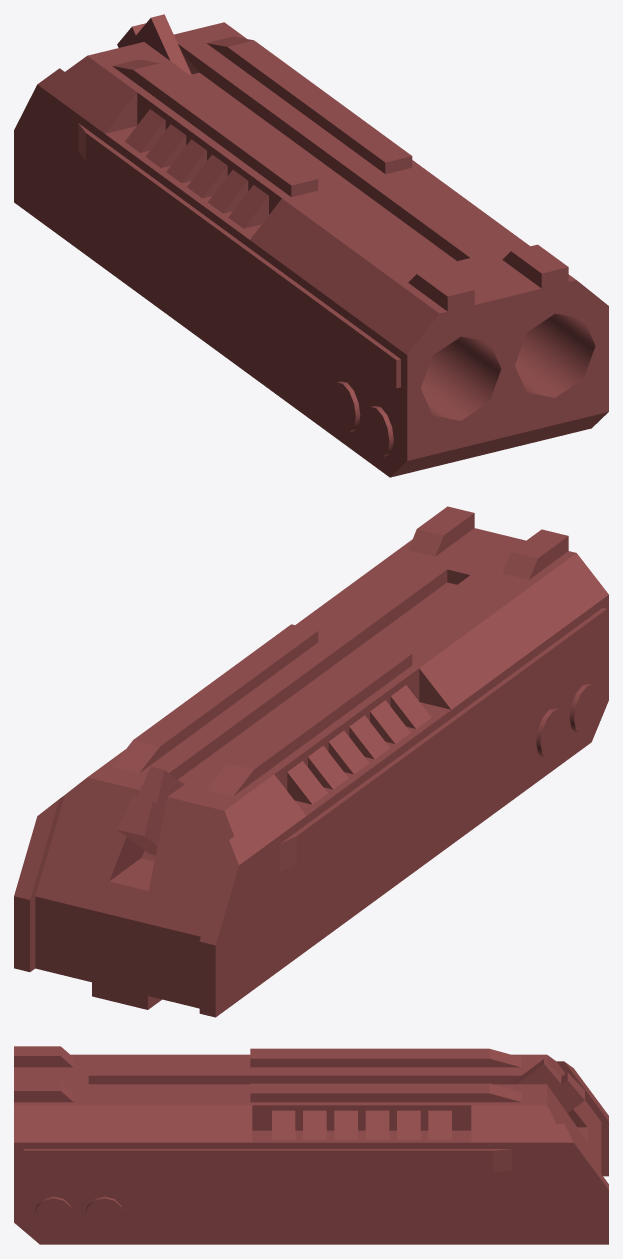
The model's file is WM0_Cannon_x2_LVL3.FBX.
The picture shows the model from 3 angles, top to bottom: view 1: azimuth 30°, elevation 25°; view 2: azimuth 150°, elevation 25°; view 3: azimuth 270°, elevation 25°; orthographic projection. The views are drawn at different scales.
Parts seen in each view (by area): view 1: WM0_Cannon_x2_LVL3; view 2: WM0_Cannon_x2_LVL3; view 3: WM0_Cannon_x2_LVL3.
Part boxes in pixels (x1=…): WM0_Cannon_x2_LVL3: x1=14, y1=14, x2=608, y2=477; WM0_Cannon_x2_LVL3: x1=14, y1=506, x2=608, y2=1017; WM0_Cannon_x2_LVL3: x1=14, y1=1046, x2=608, y2=1244.
Size of the model in its own units: 11.75 by 11.05 by 38.
